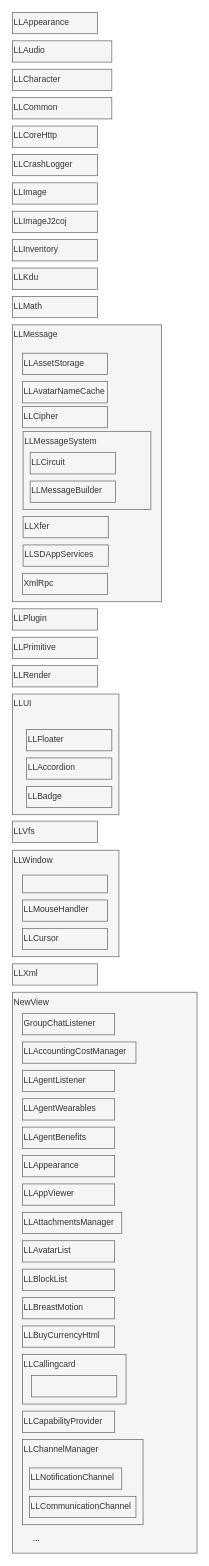
This 209x1566 diagram has some shape labels left out. The shapes that lost their labels are listed below. From the top down, each one's centre as x and y in pixels, then its label:
point (65, 883): LLKeyboard
point (74, 1386): LLAvatarTracker
